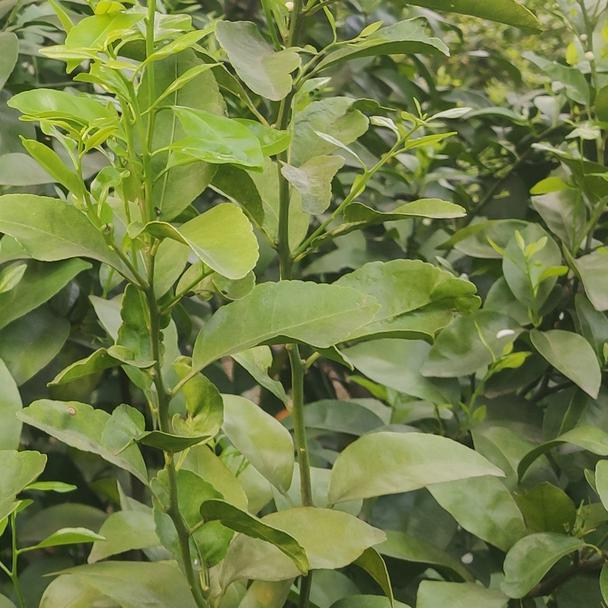shoot: (320, 97, 460, 233)
